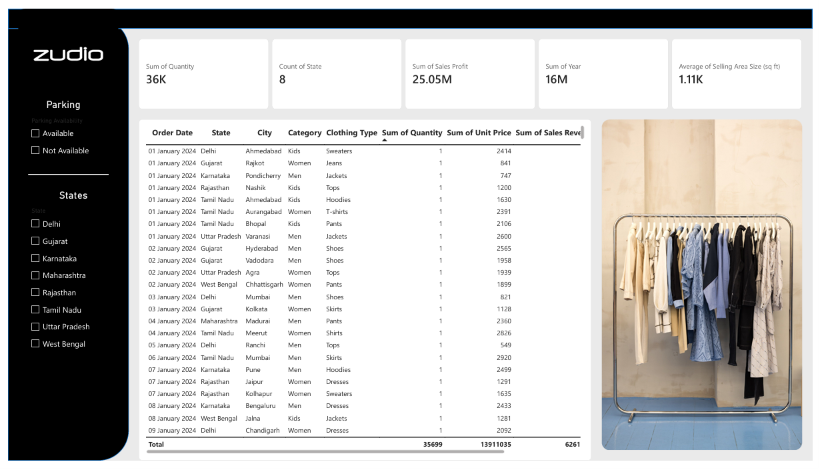

What the dashboard file says about the page in this screenshot:
{"tool":"powerbi","page":{"name":"4","canvas":[1920,1080],"ordinal":3},"visuals":[{"type":"shape","box":[0,24,288,1056],"z":0},{"type":"shape","box":[0,0,1920,48],"z":1000},{"type":"image","box":[24,0,240,216],"z":2000},{"type":"cardVisual","fields":{"Data":["Sum(Sales Data.Quantity)","Count(Sales Data.State)","Sum(Sales Data.Sales Profit)","Sum(Sales Data.Year)","Avg(Sales Data.Selling Area Size (sq ft))"]},"box":[312,72,1584,168],"z":3000},{"type":"slicer","title":"Parking ","fields":{"Values":["Sales Data.Parking Availability"]},"box":[48,216,168,168],"z":4000},{"type":"slicer","title":"States","fields":{"Values":["Sales Data.State"]},"box":[48,432,216,408],"z":5000},{"type":"tableEx","fields":{"Values":["Sales Data.Order Date","Sales Data.State","Sales Data.City","Sales Data.Category","Sales Data.Clothing Type","Sum(Sales Data.Quantity)","Sum(Sales Data.Unit Price)","Sum(Sales Data.Sales Revenue)","Sum(Sales Data.Sales Profit)"]},"box":[312,264,1080,816],"z":6000},{"type":"shape","box":[48,360,192,72],"z":7000},{"type":"image","box":[1416,264,480,792],"z":8000}]}

Visuals, with their boxes in screenshot pixels (x1, y1, x2, y2), scaled from the page's 1920x1080 canvas onto the 819x469 screenshot:
shape: 0:10:123:468
shape: 0:0:818:21
image: 10:0:113:94
cardVisual - Sum(Sales Data.Quantity) x Count(Sales Data.State): 133:31:809:104
"Parking " slicer: 20:94:92:167
"States" slicer: 20:188:113:365
tableEx - Sales Data.Order Date x Sales Data.State: 133:115:594:468
shape: 20:156:102:188
image: 604:115:809:459
